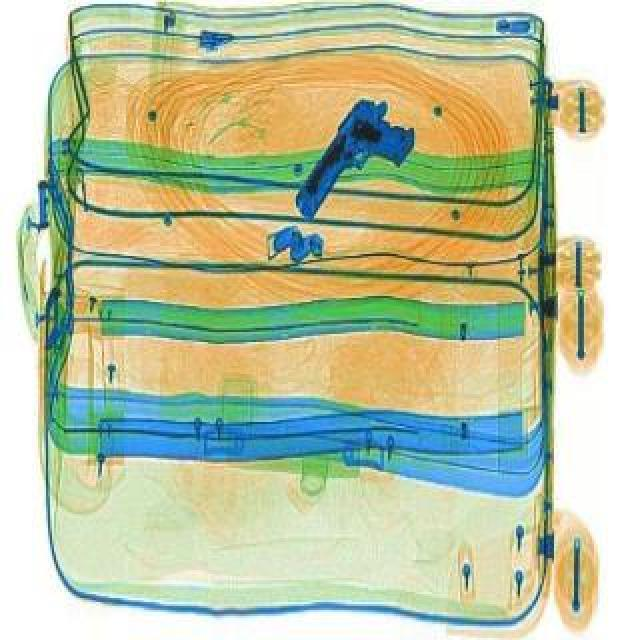gun: (276, 94, 428, 246)
